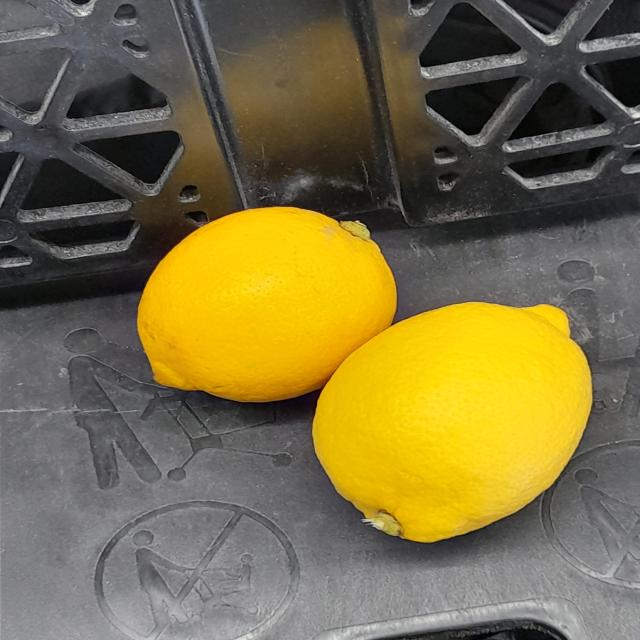lemon: (312, 271, 622, 549), (120, 191, 410, 421)
